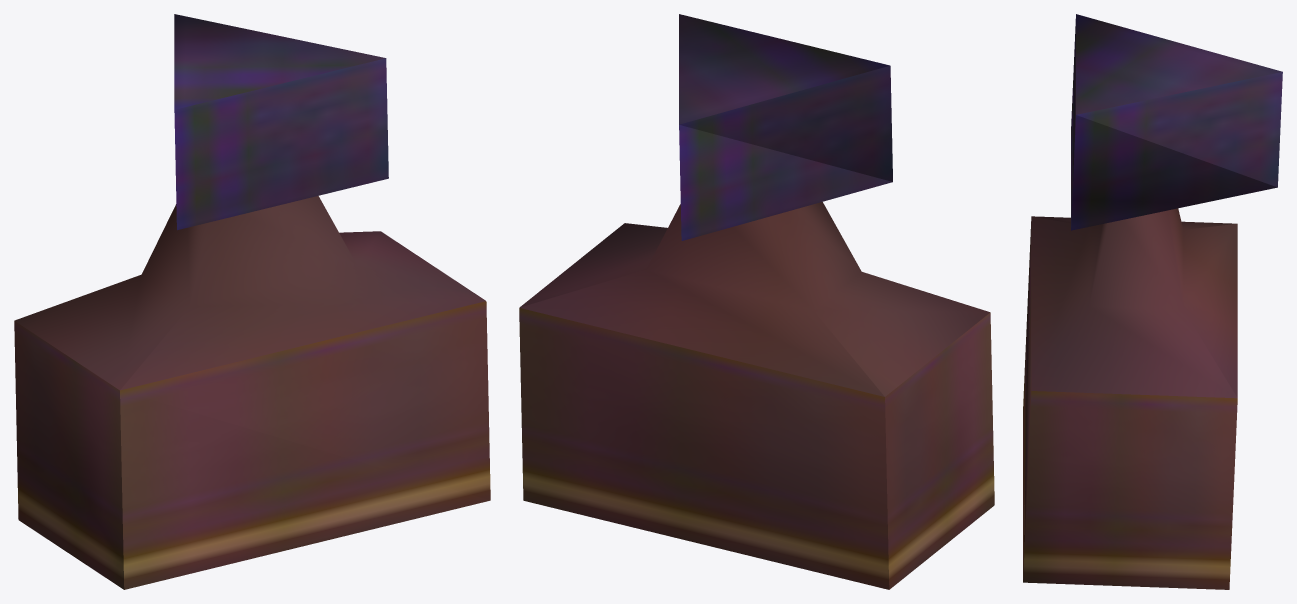
The model's file is rubber-stamp.glb.
The picture shows the model from 3 angles, left to right: view 1: azimuth 30°, elevation 25°; view 2: azimuth 150°, elevation 25°; view 3: azimuth 270°, elevation 25°; orthographic projection. The views are drawn at different scales.
Parts seen in each view (by area): view 1: rubber-stamp; view 2: rubber-stamp; view 3: rubber-stamp.
Part boxes in pixels (x1=…): rubber-stamp: x1=14, y1=14, x2=490, y2=589; rubber-stamp: x1=519, y1=14, x2=994, y2=589; rubber-stamp: x1=1023, y1=14, x2=1282, y2=589.
Size of the model in its own units: 0.9963 by 1.17 by 0.6266.
3 materials, 3 textured.
